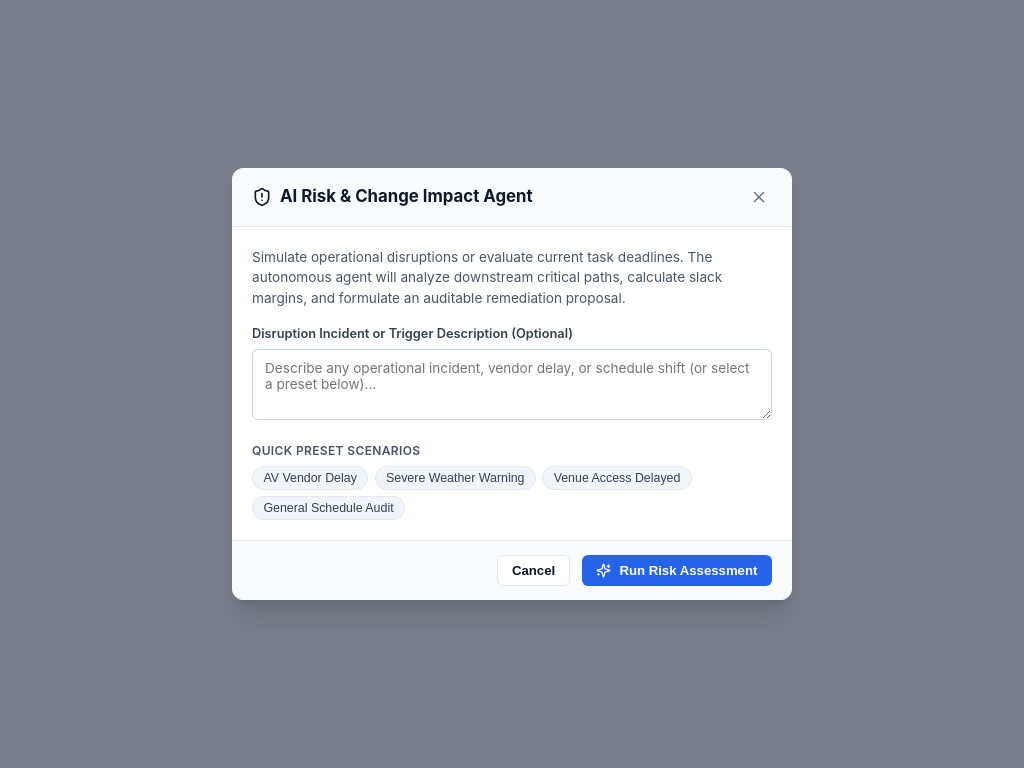
Test: RiskAssessmentModal Component › displays error banner when the mutation rejects
The width and height of the screenshot is (1024, 768).
Click the button "Run Risk Assessment" at (677, 571), box [582,555,772,586]
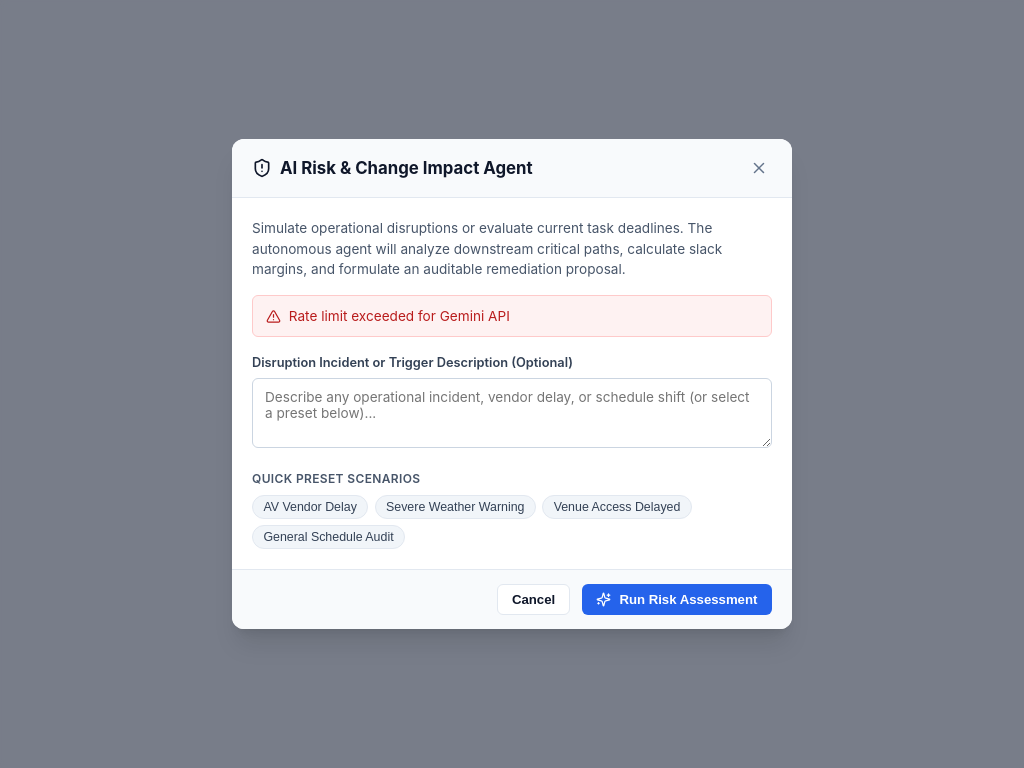
Expected: the message "Rate limit exceeded for Gemini API" is shown, [252,295,772,337]
Expected: the text "Rate limit exceeded for Gemini API" is shown, [289,306,510,326]
